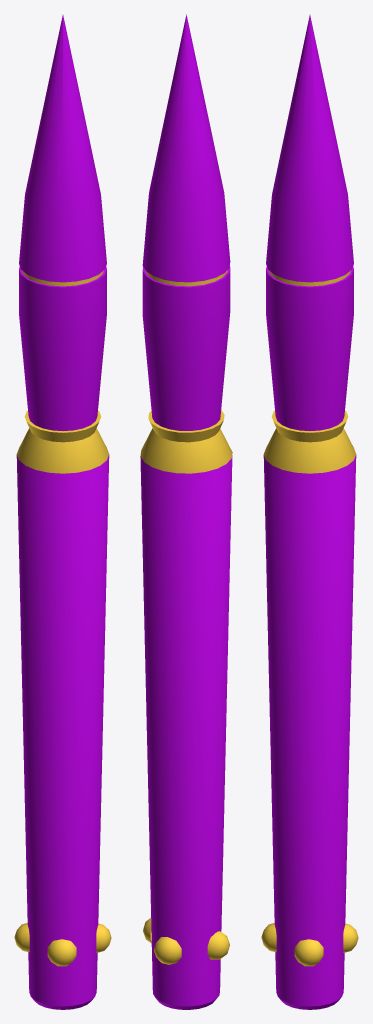
The picture shows the model from 3 angles, left to right: view 1: azimuth 90°, elevation 25°; view 2: azimuth 150°, elevation 25°; view 3: azimuth 270°, elevation 25°; orthographic projection.
Visible parts, largest first — view 1: base3; view 2: base3; view 3: base3.
Part boxes in pixels (x1,y1,x2,y2): base3: (14,15,111,1009); base3: (140,14,232,1009); base3: (261,15,358,1009).
Bounding box in the file's own units: 95.77 × 1069 × 95.77.
